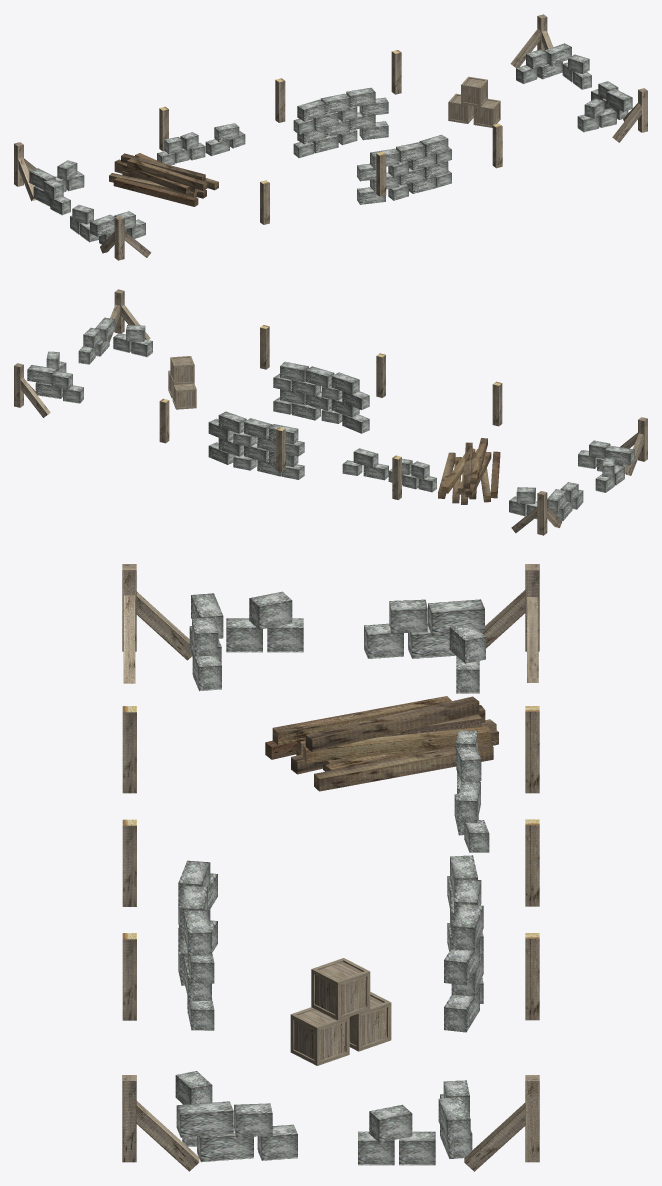
File: foundation_wall.glb
The picture shows the model from 3 angles, top to bottom: view 1: azimuth 30°, elevation 25°; view 2: azimuth 150°, elevation 25°; view 3: azimuth 270°, elevation 25°; orthographic projection. The views are drawn at different scales.
Visible parts, largest first — view 1: foundation_wall_part16, foundation_wall_part17, foundation_wall_part18, foundation_wall_part14, foundation_wall_part15, foundation_wall_part12, foundation_wall_part13, foundation_wall_part11, foundation_wall_part1, foundation_wall_part2, foundation_wall_part3, foundation_wall_part4 (+9 smaller); view 2: foundation_wall_part17, foundation_wall_part16, foundation_wall_part18, foundation_wall_part13, foundation_wall_part15, foundation_wall_part11, foundation_wall_part14, foundation_wall_part12, foundation_wall_part4, foundation_wall_part3, foundation_wall_part1, foundation_wall_part2 (+8 smaller); view 3: foundation_wall_part18, foundation_wall_part12, foundation_wall_part13, foundation_wall_part11, foundation_wall_part16, foundation_wall_part14, foundation_wall_part17, foundation_wall_part15, foundation_wall_part20, foundation_wall_part1, foundation_wall_part22, foundation_wall_part2 (+9 smaller).
Part boxes in pixels (x1,y1,x2,y2): foundation_wall_part16: [293, 87, 388, 157]; foundation_wall_part17: [357, 134, 451, 204]; foundation_wall_part18: [109, 153, 218, 206]; foundation_wall_part14: [516, 43, 591, 89]; foundation_wall_part15: [157, 123, 245, 165]; foundation_wall_part12: [29, 160, 84, 215]; foundation_wall_part13: [577, 81, 632, 132]; foundation_wall_part11: [70, 205, 145, 244]; foundation_wall_part1: [100, 216, 151, 260]; foundation_wall_part2: [612, 88, 647, 142]; foundation_wall_part3: [510, 14, 552, 68]; foundation_wall_part4: [14, 142, 36, 201]; foundation_wall_part17: [273, 361, 369, 433]; foundation_wall_part16: [208, 411, 304, 479]; foundation_wall_part18: [438, 438, 500, 504]; foundation_wall_part13: [78, 317, 152, 364]; foundation_wall_part15: [342, 448, 436, 492]; foundation_wall_part11: [578, 440, 634, 492]; foundation_wall_part14: [27, 351, 83, 403]; foundation_wall_part12: [509, 482, 583, 520]; foundation_wall_part4: [511, 491, 562, 535]; foundation_wall_part3: [14, 363, 50, 417]; foundation_wall_part1: [620, 417, 647, 475]; foundation_wall_part2: [109, 289, 150, 341]; foundation_wall_part18: [265, 696, 498, 791]; foundation_wall_part12: [364, 599, 485, 693]; foundation_wall_part13: [175, 1071, 297, 1162]; foundation_wall_part11: [189, 591, 303, 691]; foundation_wall_part16: [444, 855, 483, 1032]; foundation_wall_part14: [358, 1080, 472, 1165]; foundation_wall_part17: [178, 860, 217, 1030]; foundation_wall_part15: [454, 730, 489, 852]; foundation_wall_part20: [311, 958, 370, 1020]; foundation_wall_part1: [122, 564, 191, 683]; foundation_wall_part22: [290, 1007, 349, 1065]; foundation_wall_part2: [122, 1075, 199, 1171].
Size of the model in its own units: 4 by 0.4966 by 1.34.
Materials: 3 (3 with a texture image).
